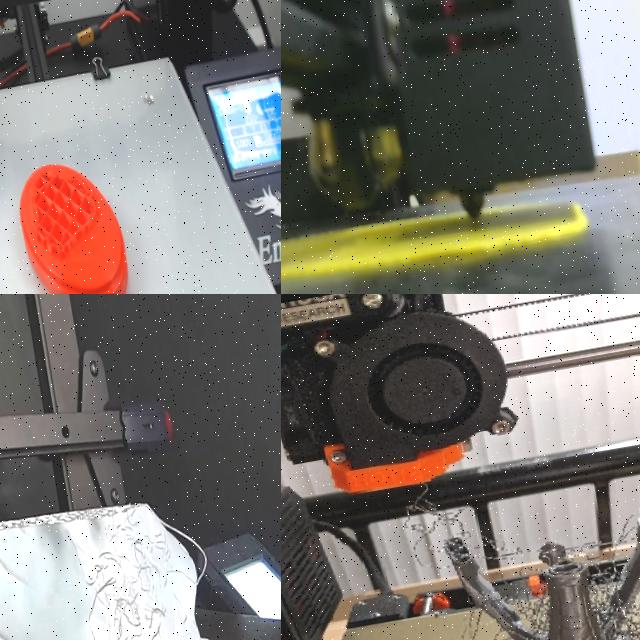spaghetti: (308, 483, 640, 640), (50, 495, 245, 640)
